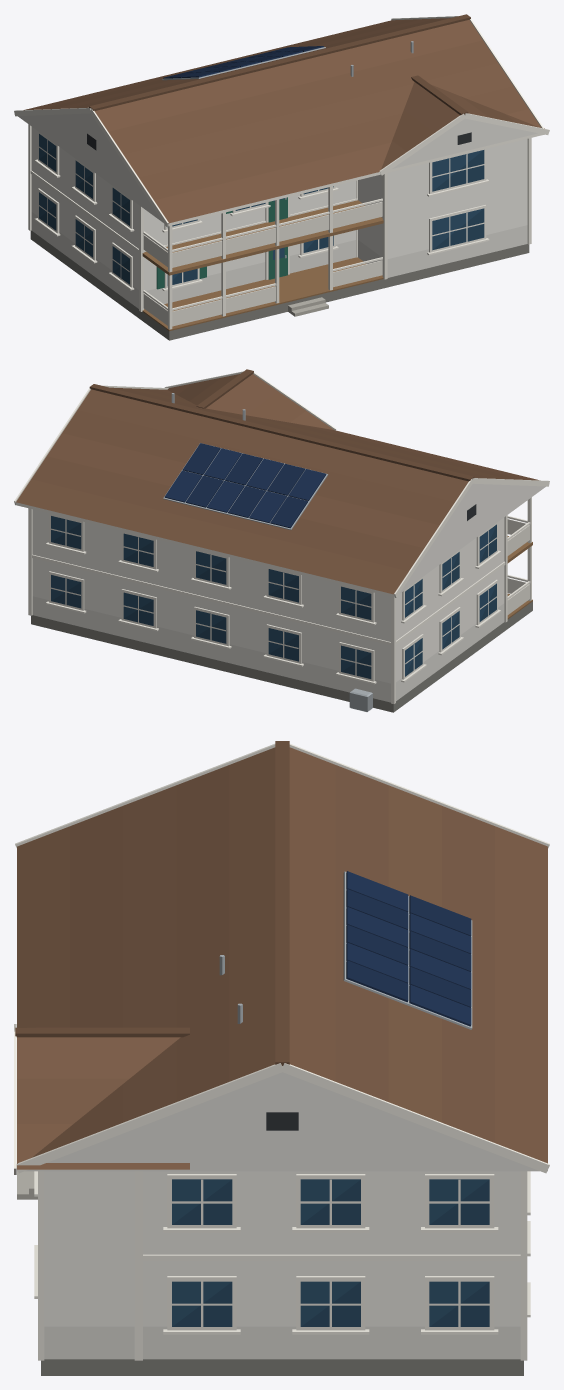
Rendered from house_18x12_2f.glb.
3 views of the same model, one above another, from view 1: azimuth 30°, elevation 25°; view 2: azimuth 150°, elevation 25°; view 3: azimuth 270°, elevation 25° (orthographic). The views are drawn at different scales.
Parts seen in each view (by area): view 1: house; view 2: house; view 3: house.
Part boxes in pixels (x1,y1,x2,y2): house: (14, 14, 549, 340); house: (14, 369, 549, 712); house: (14, 741, 549, 1375).
Size of the model in its own units: 19.11 by 8.81 by 13.32.
